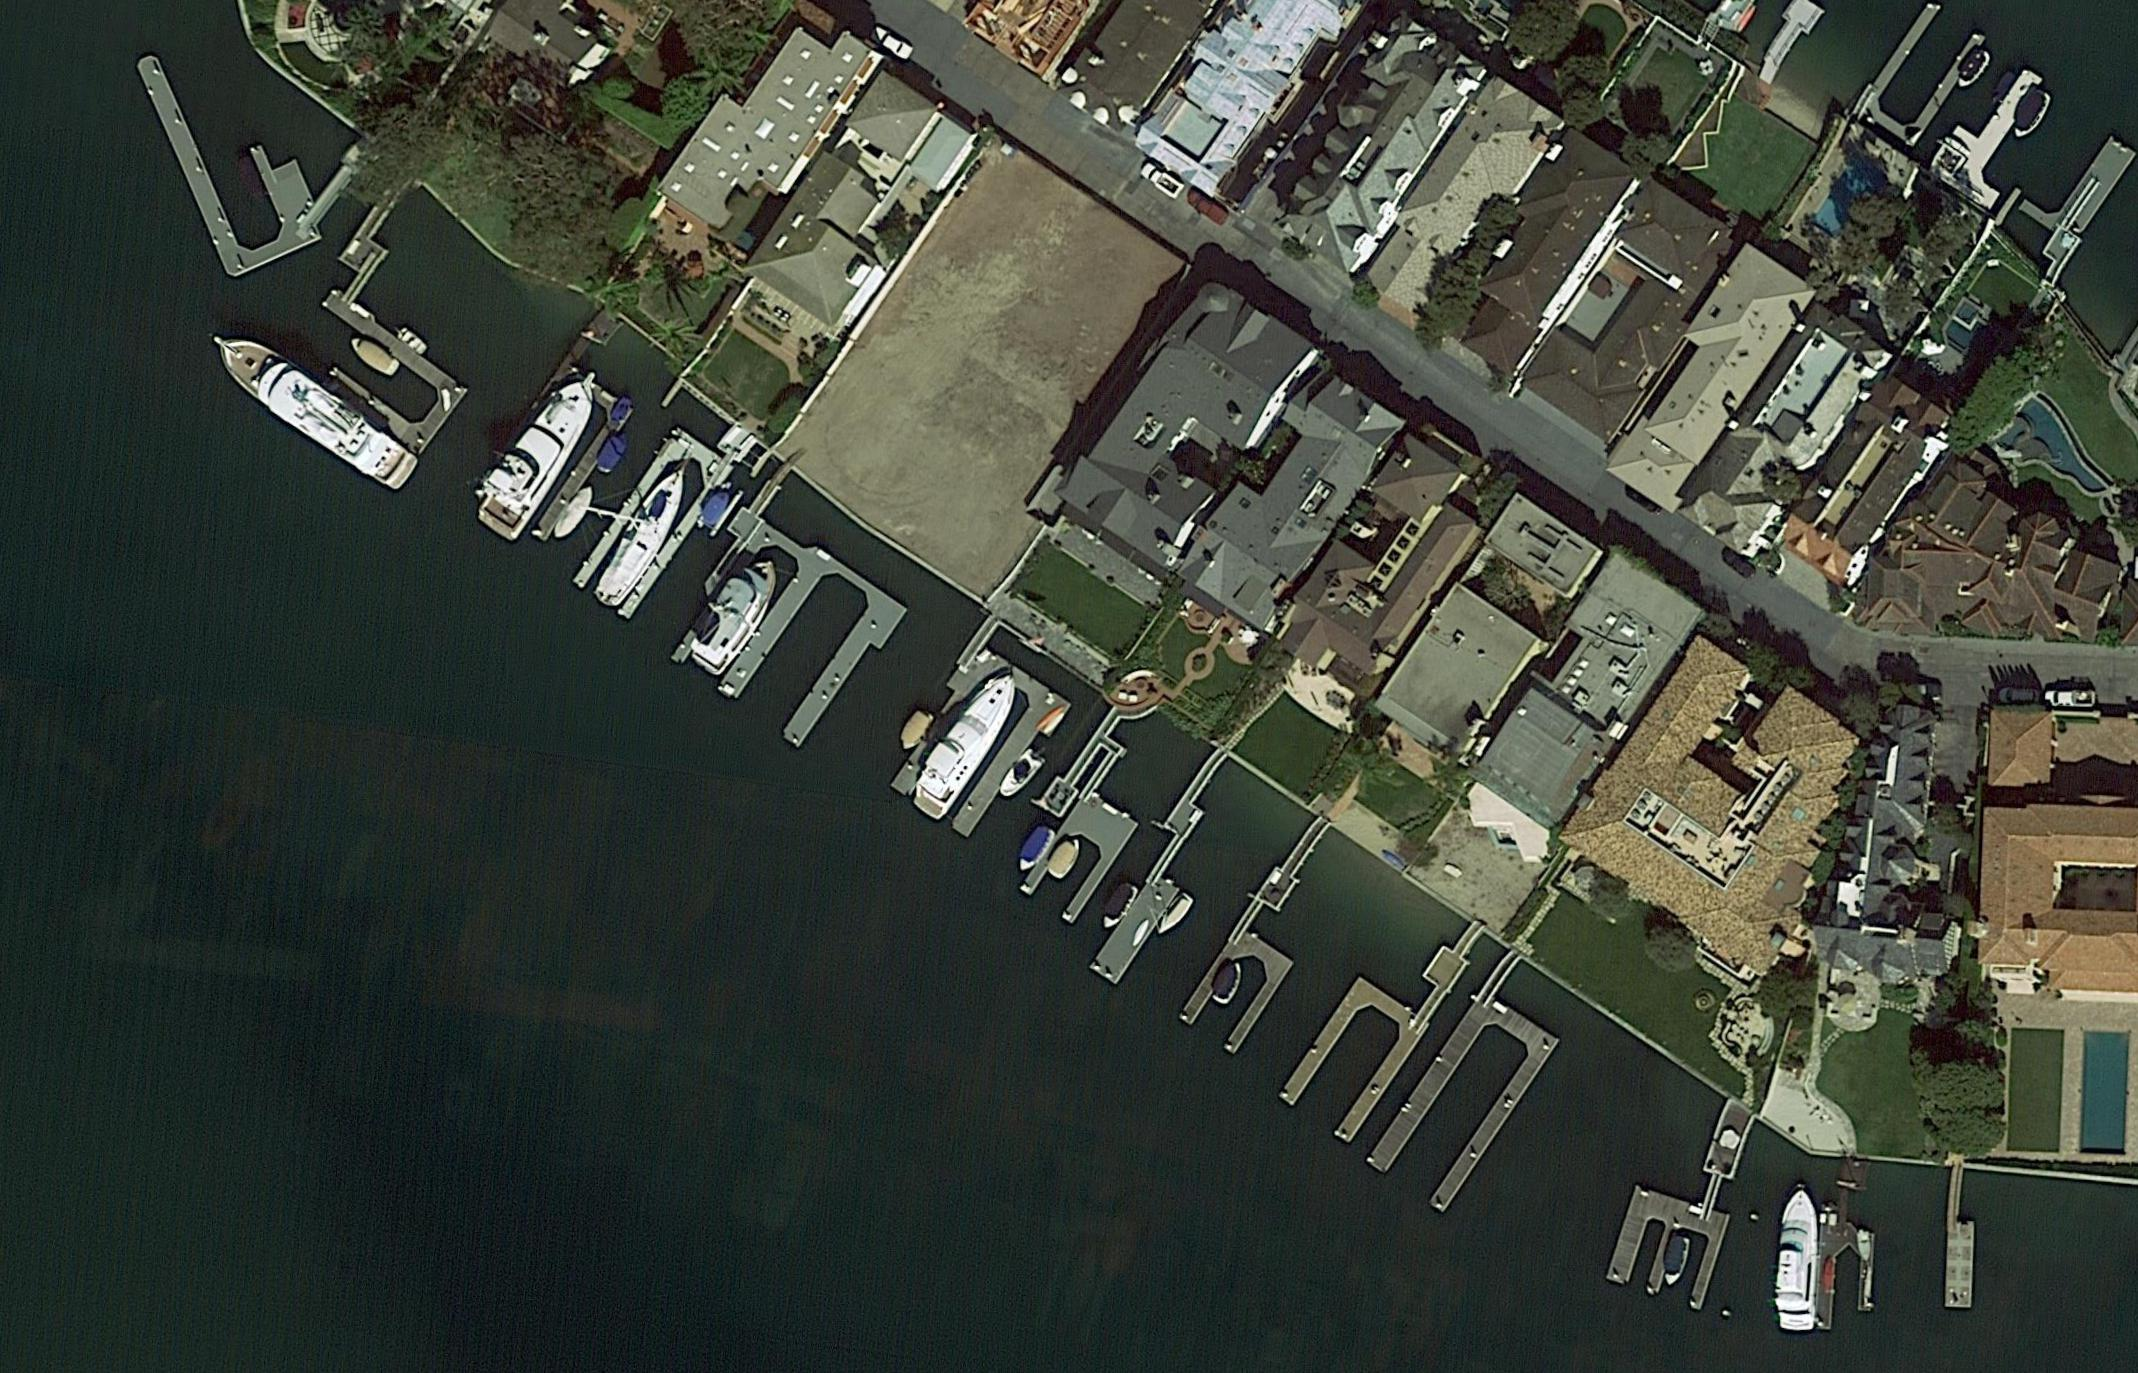harbor: (651, 459, 934, 760), (271, 207, 525, 458), (1365, 951, 1583, 1215), (1280, 888, 1489, 1142), (135, 13, 332, 280), (868, 614, 1089, 841), (1179, 812, 1371, 1058), (472, 309, 671, 545), (1070, 748, 1256, 985), (991, 700, 1185, 925), (572, 407, 747, 620), (1607, 1092, 1759, 1309), (1995, 113, 2135, 285), (1927, 55, 2066, 212), (1852, 2, 1991, 157), (1815, 1161, 1879, 1332), (1945, 1168, 1978, 1308)
ship: (201, 320, 423, 495), (468, 361, 610, 542), (906, 665, 1026, 824), (588, 459, 709, 612), (683, 549, 793, 680), (1775, 1187, 1820, 1332), (549, 480, 601, 544), (2004, 79, 2056, 141), (995, 747, 1045, 805), (346, 332, 402, 380), (1013, 822, 1058, 877), (1097, 880, 1142, 934), (1153, 888, 1197, 941), (231, 151, 272, 205), (1045, 833, 1086, 883), (1206, 958, 1245, 1010), (894, 707, 936, 754), (1953, 46, 1992, 91), (695, 489, 734, 532), (1661, 1234, 1692, 1288), (593, 431, 629, 477), (391, 325, 431, 359)
